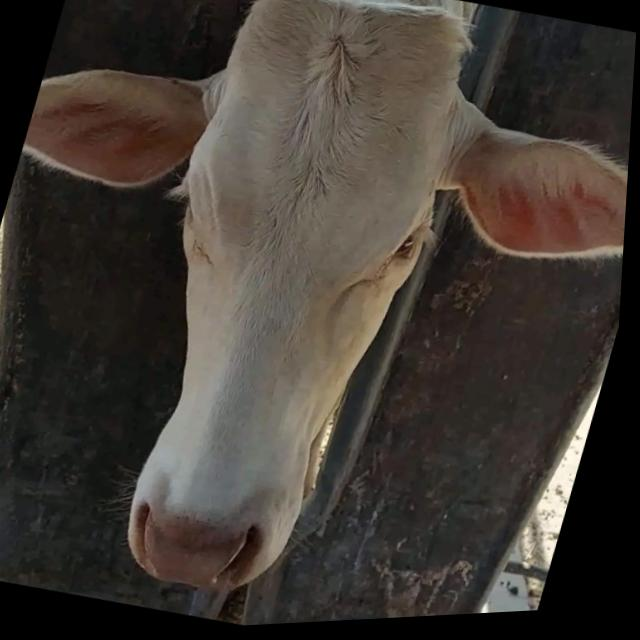cowFace: (78, 0, 490, 617)
